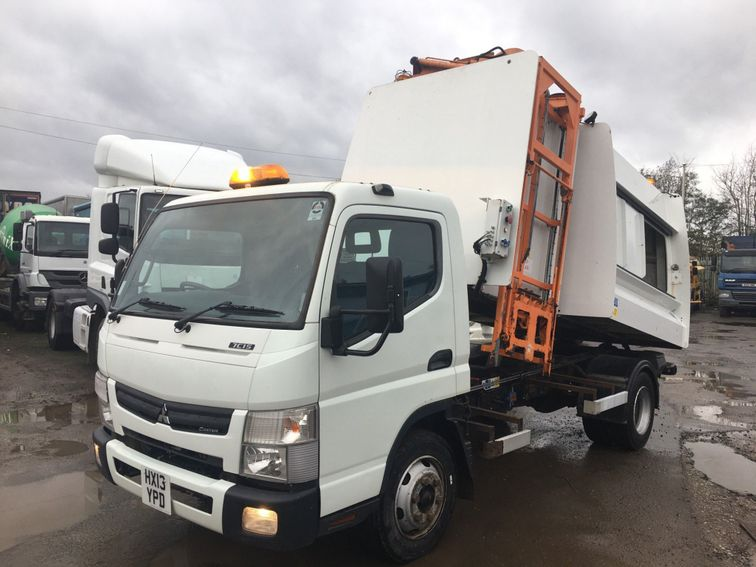Semi: (92, 45, 690, 561)
